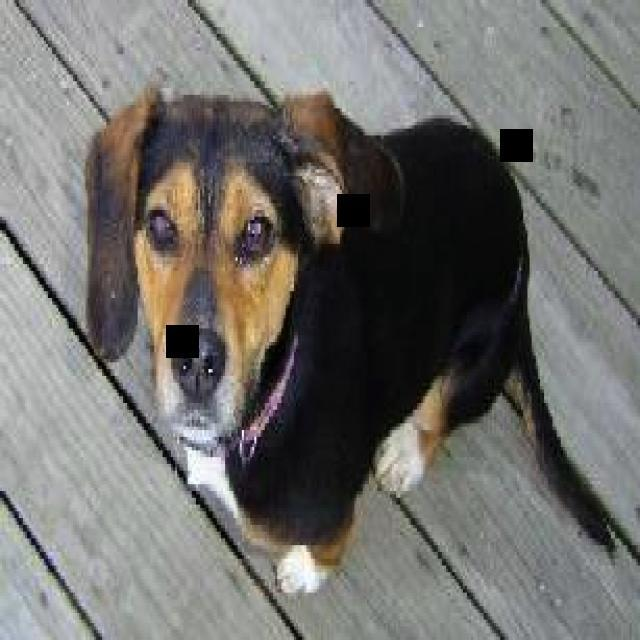adult_dog: (80, 81, 621, 597)
